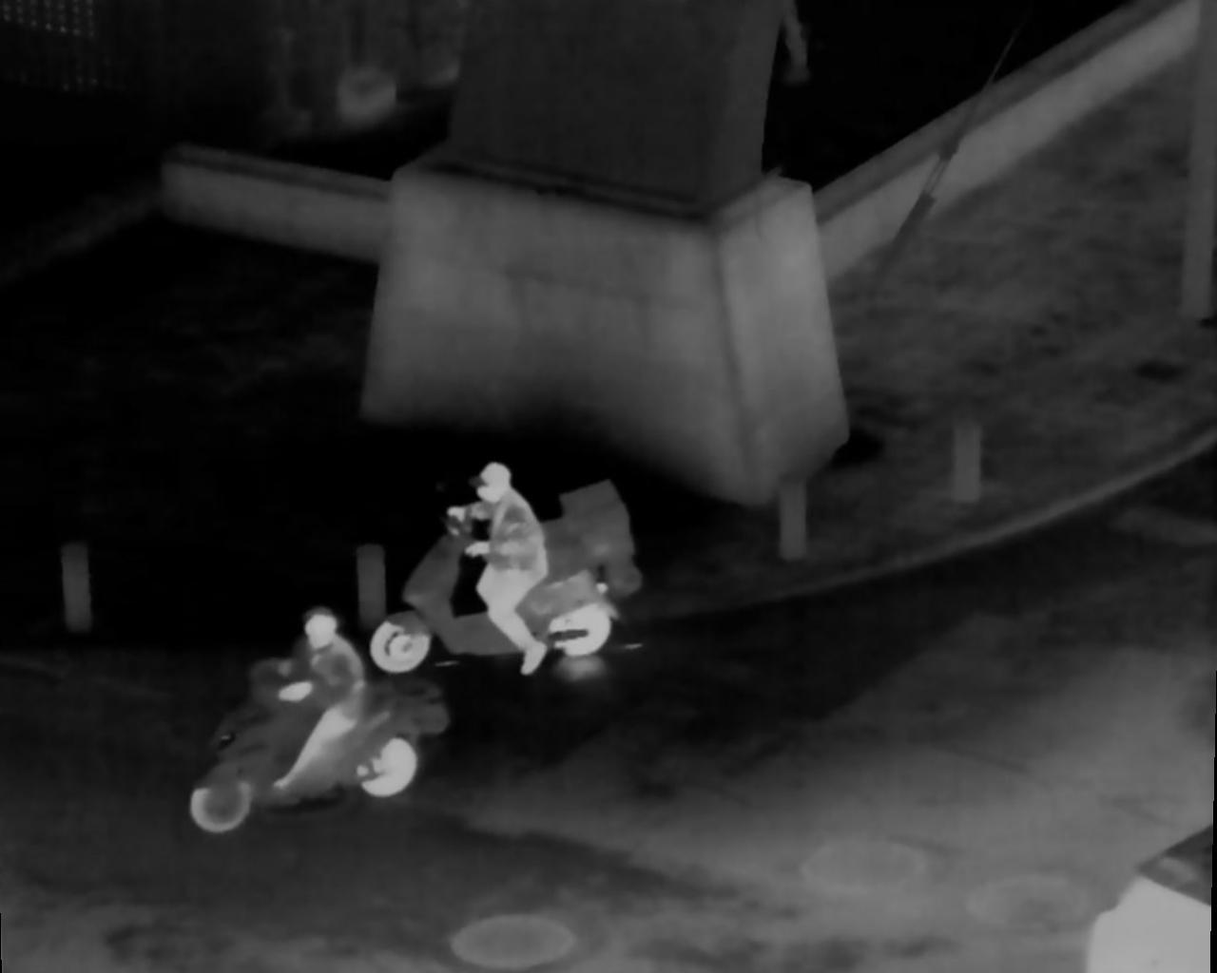person: (455, 467, 571, 674), (290, 604, 389, 794)
